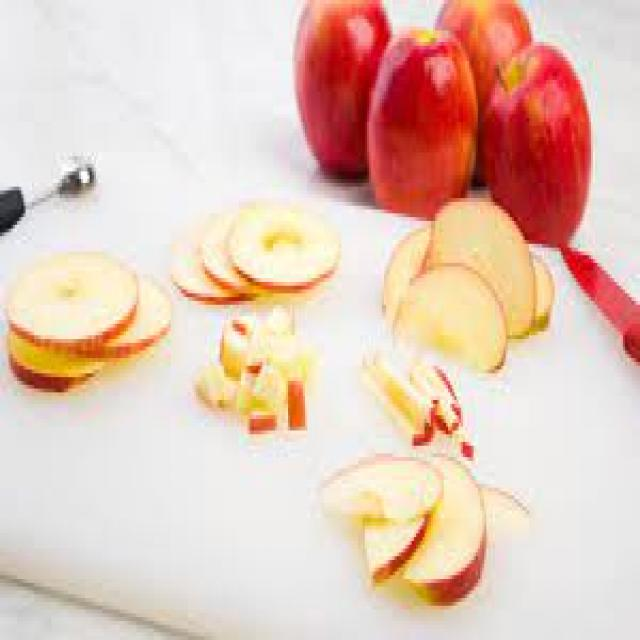Apple: (486, 48, 592, 243), (371, 32, 478, 213), (291, 0, 391, 177), (434, 206, 538, 336), (397, 267, 508, 368), (363, 350, 469, 454), (229, 205, 341, 292), (5, 267, 138, 340), (439, 1, 532, 80), (320, 458, 444, 517), (432, 464, 482, 604), (13, 339, 100, 391), (384, 235, 431, 317), (362, 522, 428, 579), (172, 242, 230, 301), (128, 283, 177, 347), (208, 217, 238, 293), (536, 244, 558, 328), (479, 493, 530, 528)
